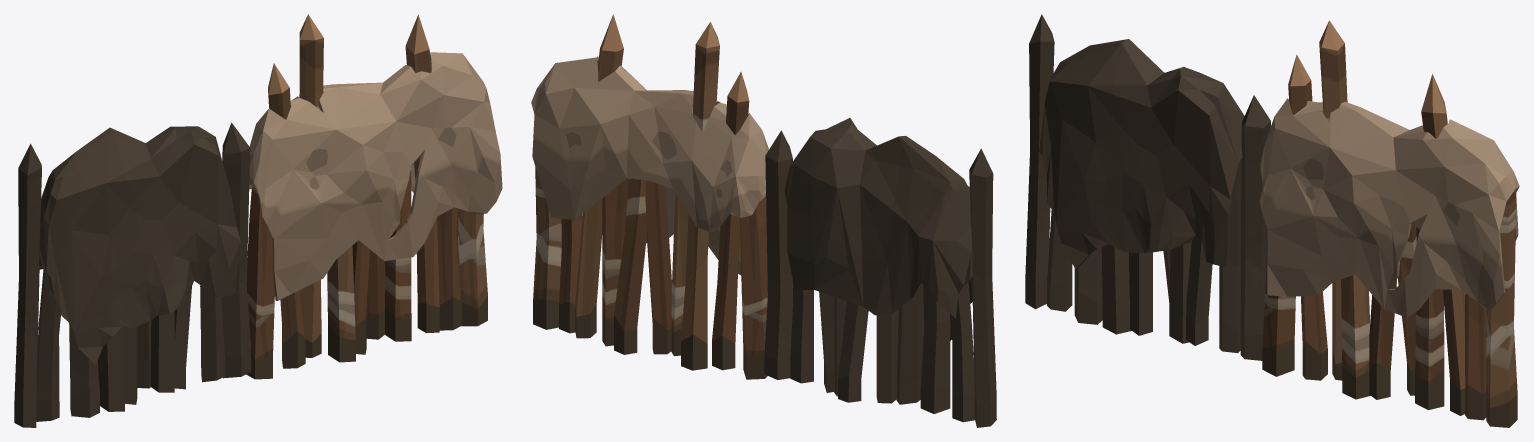
The model's file is bog_wall_c.gltf.
The picture shows the model from 3 angles, left to right: view 1: azimuth 30°, elevation 25°; view 2: azimuth 150°, elevation 25°; view 3: azimuth 330°, elevation 25°; orthographic projection. The views are drawn at different scales.
Parts seen in each view (by area): view 1: bog_wall_c; view 2: bog_wall_c; view 3: bog_wall_c.
Part boxes in pixels (left/top/right/bottom): bog_wall_c: left=14, top=14, right=502, bottom=427; bog_wall_c: left=531, top=14, right=996, bottom=427; bog_wall_c: left=1025, top=14, right=1519, bottom=427.
Size of the model in its own units: 9.98 by 7.07 by 1.42.
Materials: 2 (2 with a texture image).
